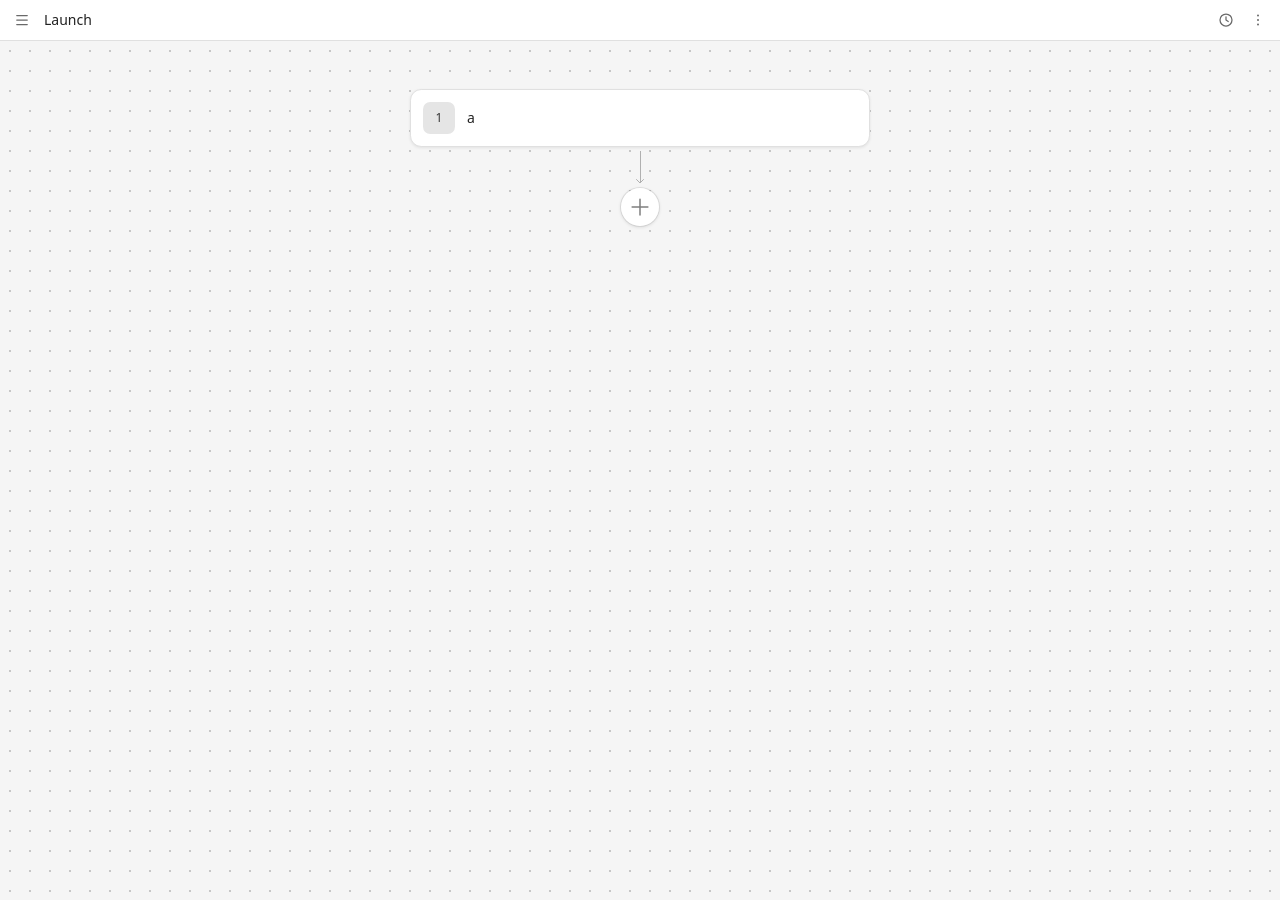
Test: WorkflowPage schedule button › opens the schedule dialog and shows the schedule in the header after saving
Click the button named "Schedule": {"x": 1226, "y": 20} top-left (1212, 6), bottom-right (1240, 34)
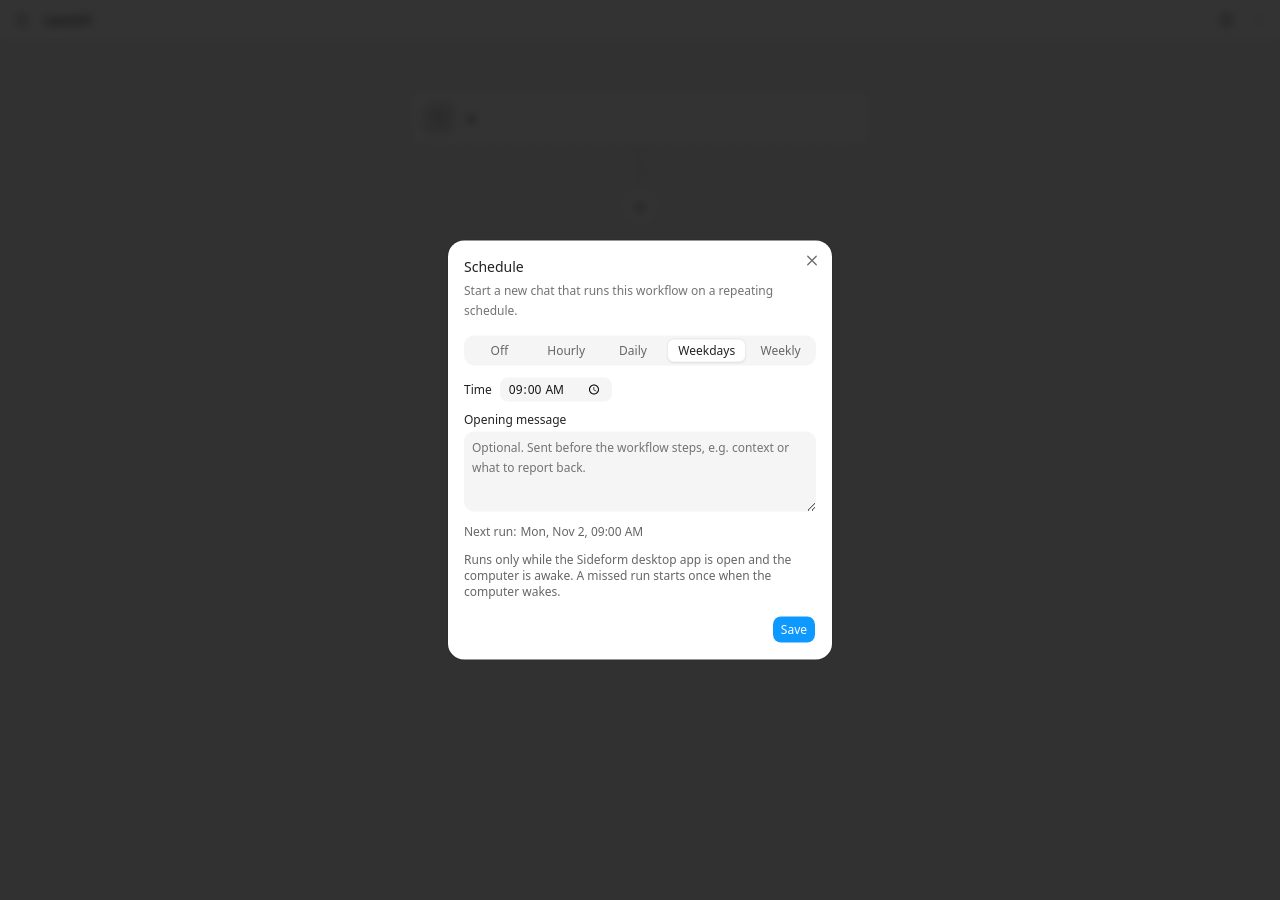
Click the button "Save": {"x": 794, "y": 630} top-left (772, 616), bottom-right (816, 644)
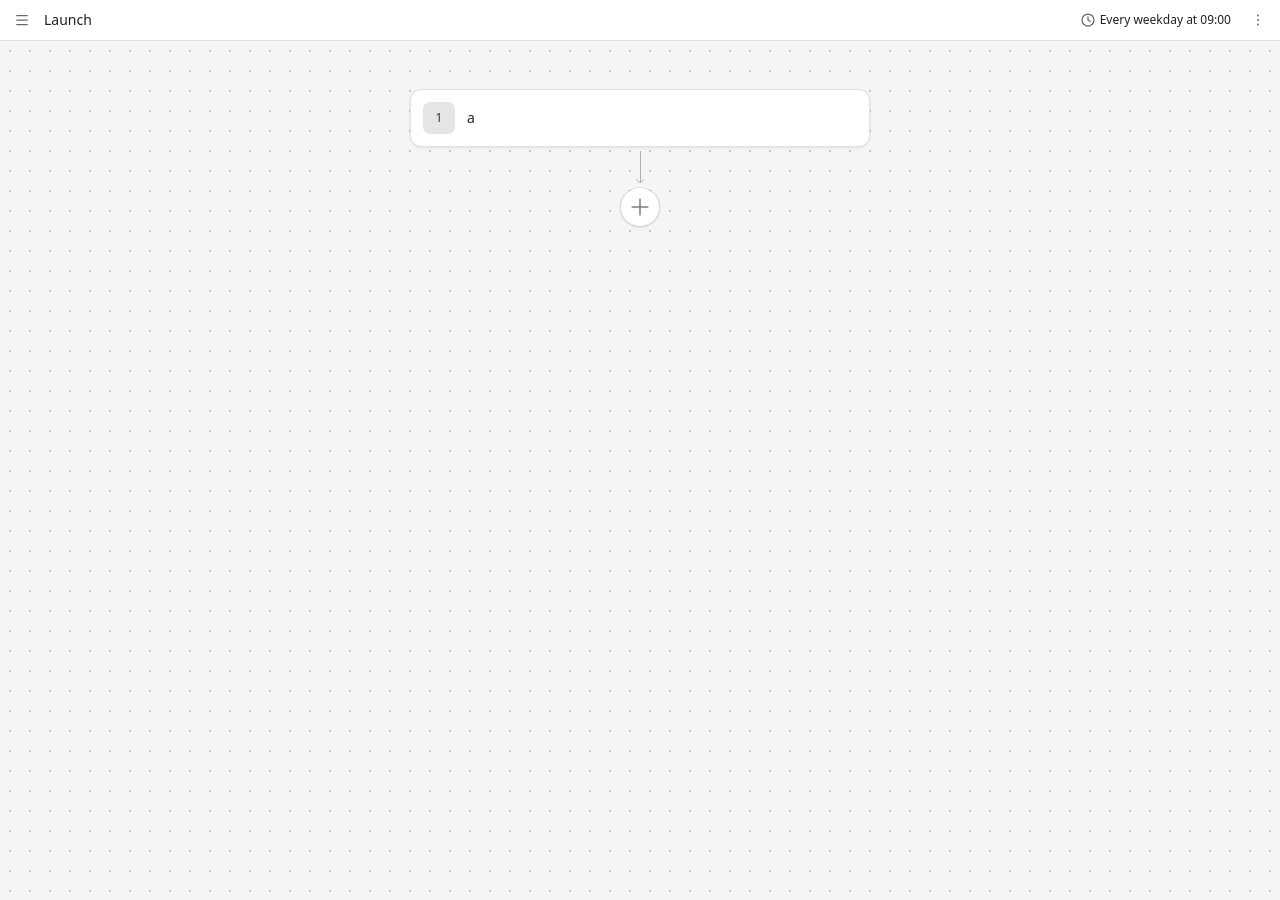
expect the button "Every weekday at 09:00" is shown: met, box top-left (1071, 8), bottom-right (1240, 32)
